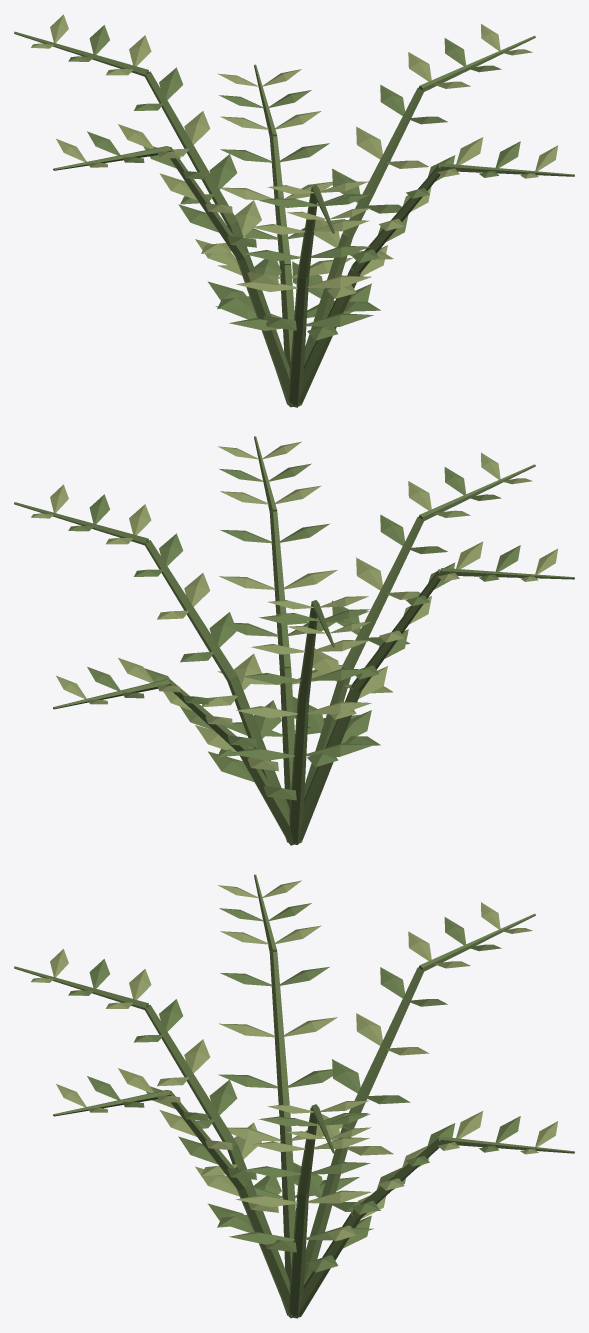
Rendered from NAT_V3_Fern_Arch.glb.
The picture shows the model from 3 angles, top to bottom: view 1: azimuth 30°, elevation 25°; view 2: azimuth 150°, elevation 25°; view 3: azimuth 270°, elevation 25°; orthographic projection.
Visible parts, largest first — view 1: NAT_V3_Fern_Arch; view 2: NAT_V3_Fern_Arch; view 3: NAT_V3_Fern_Arch.
Part boxes in pixels (x1=…): NAT_V3_Fern_Arch: x1=14, y1=14, x2=574, y2=407; NAT_V3_Fern_Arch: x1=14, y1=436, x2=574, y2=845; NAT_V3_Fern_Arch: x1=14, y1=874, x2=574, y2=1318.
Size of the model in its own units: 1.17 by 0.7115 by 1.09.
